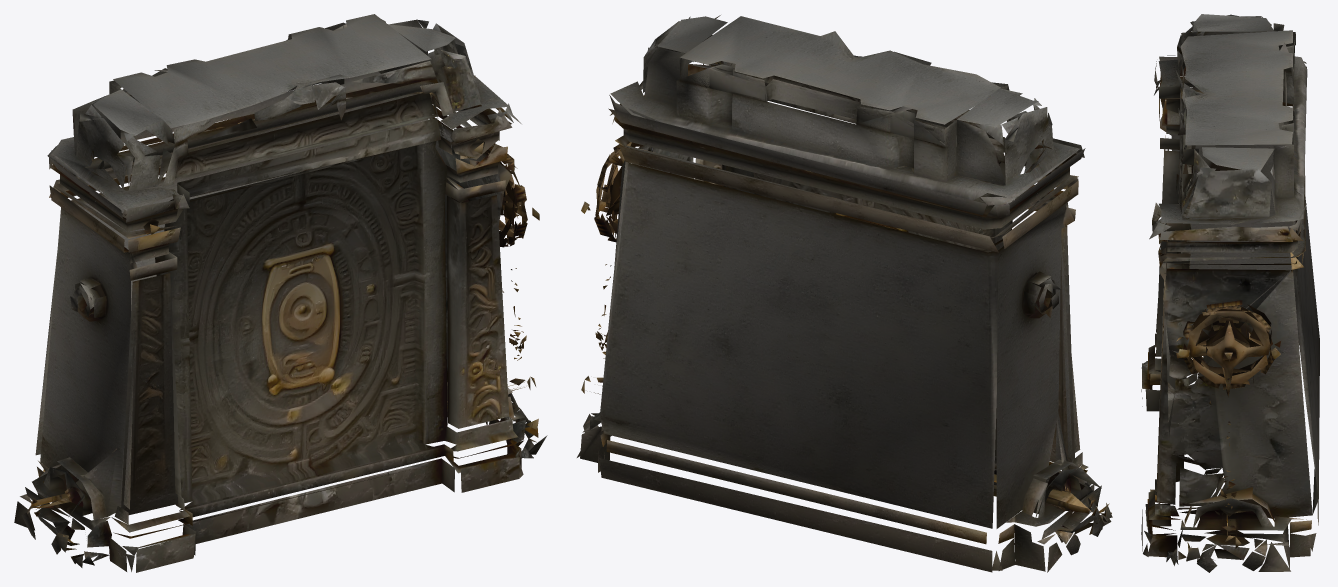
File: ch6_sluice_gate_LOD3.glb
The picture shows the model from 3 angles, left to right: view 1: azimuth 30°, elevation 25°; view 2: azimuth 150°, elevation 25°; view 3: azimuth 270°, elevation 25°; orthographic projection. The views are drawn at different scales.
Visible parts, largest first — view 1: tripo_node_174d5530-f8be-48f6-bdd4-5b4818296782; view 2: tripo_node_174d5530-f8be-48f6-bdd4-5b4818296782; view 3: tripo_node_174d5530-f8be-48f6-bdd4-5b4818296782.
Part boxes in pixels (x1,y1,x2,y2): tripo_node_174d5530-f8be-48f6-bdd4-5b4818296782: (14, 14, 547, 572); tripo_node_174d5530-f8be-48f6-bdd4-5b4818296782: (577, 15, 1112, 572); tripo_node_174d5530-f8be-48f6-bdd4-5b4818296782: (1141, 14, 1319, 572).
Size of the model in its own units: 0.9986 by 0.8247 by 0.3479.
Materials: 1 (1 with a texture image).
